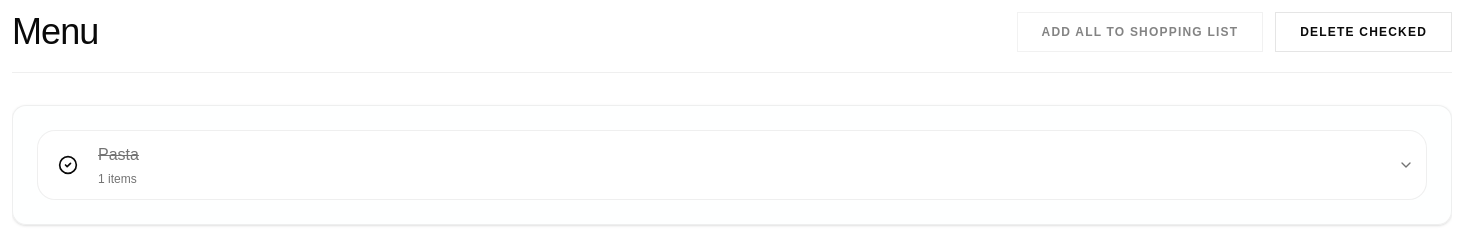
Scenario: MenuPage › keeps the delete button busy while deletion is pending
Click the button "Delete checked": (1364, 32) [1275, 12, 1452, 52]
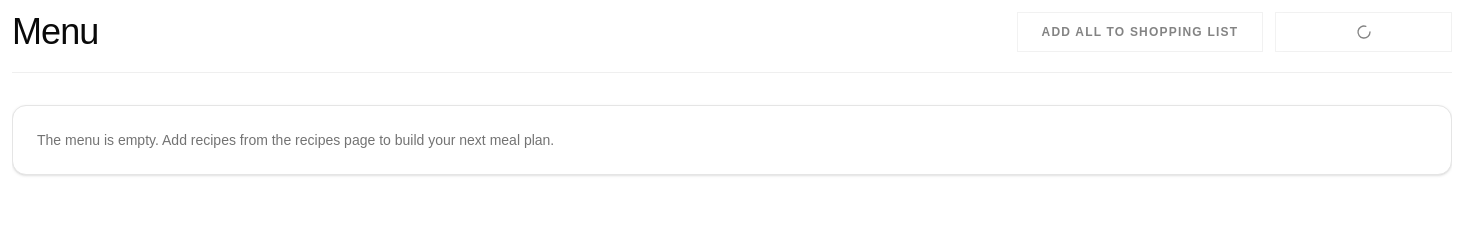
Result: the button named "Delete checked" is disabled at [1275, 12, 1452, 52]
Result: the text "The menu is empty. Add recipes from the recipes page to build your next meal plan." is shown at [37, 132, 554, 148]
